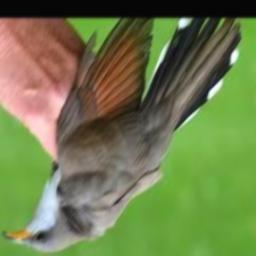Cuckoo: (2, 19, 242, 253)
